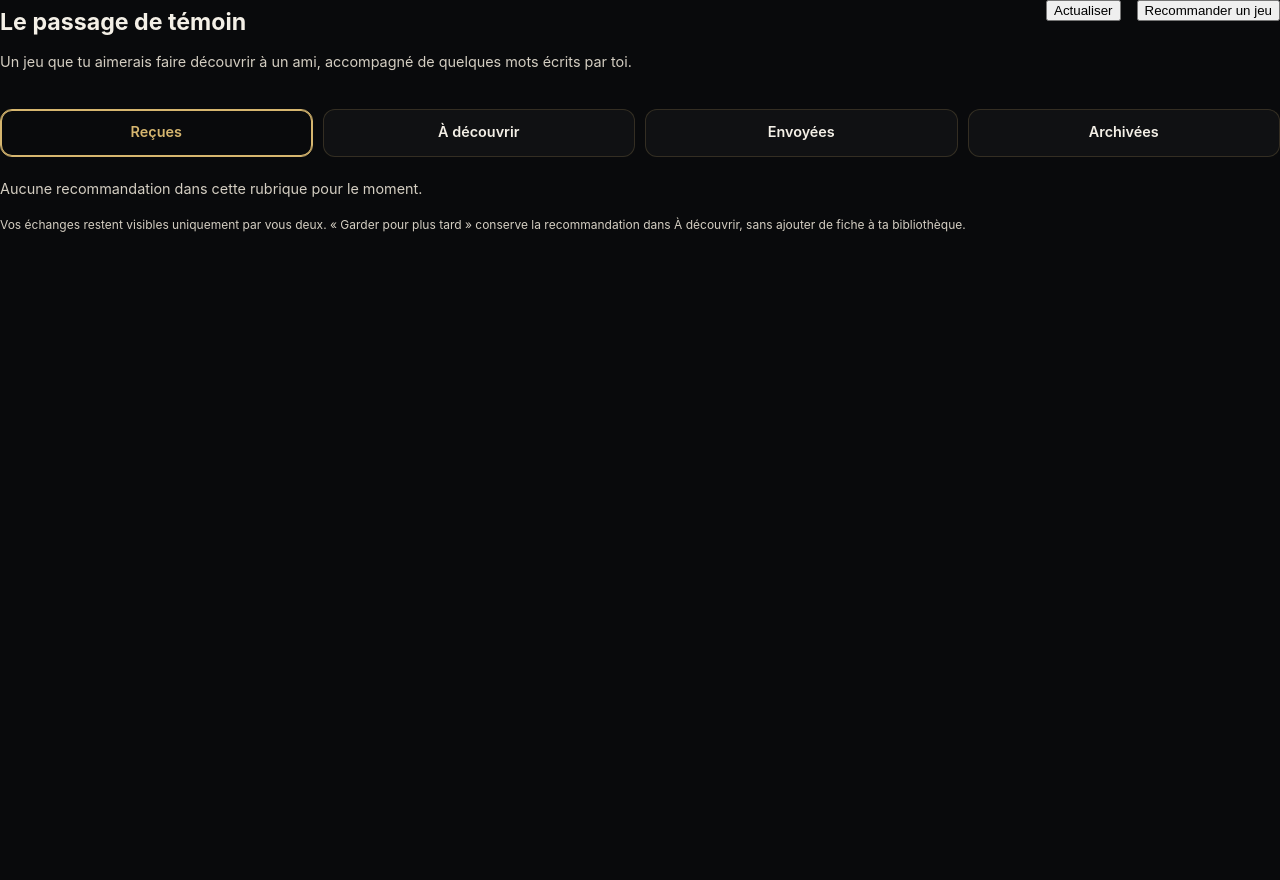
recommendations require a real message and game; retries preserve the draft
Click the button "Recommander un jeu" at (1208, 10), box top-left (1137, 0), bottom-right (1279, 21)
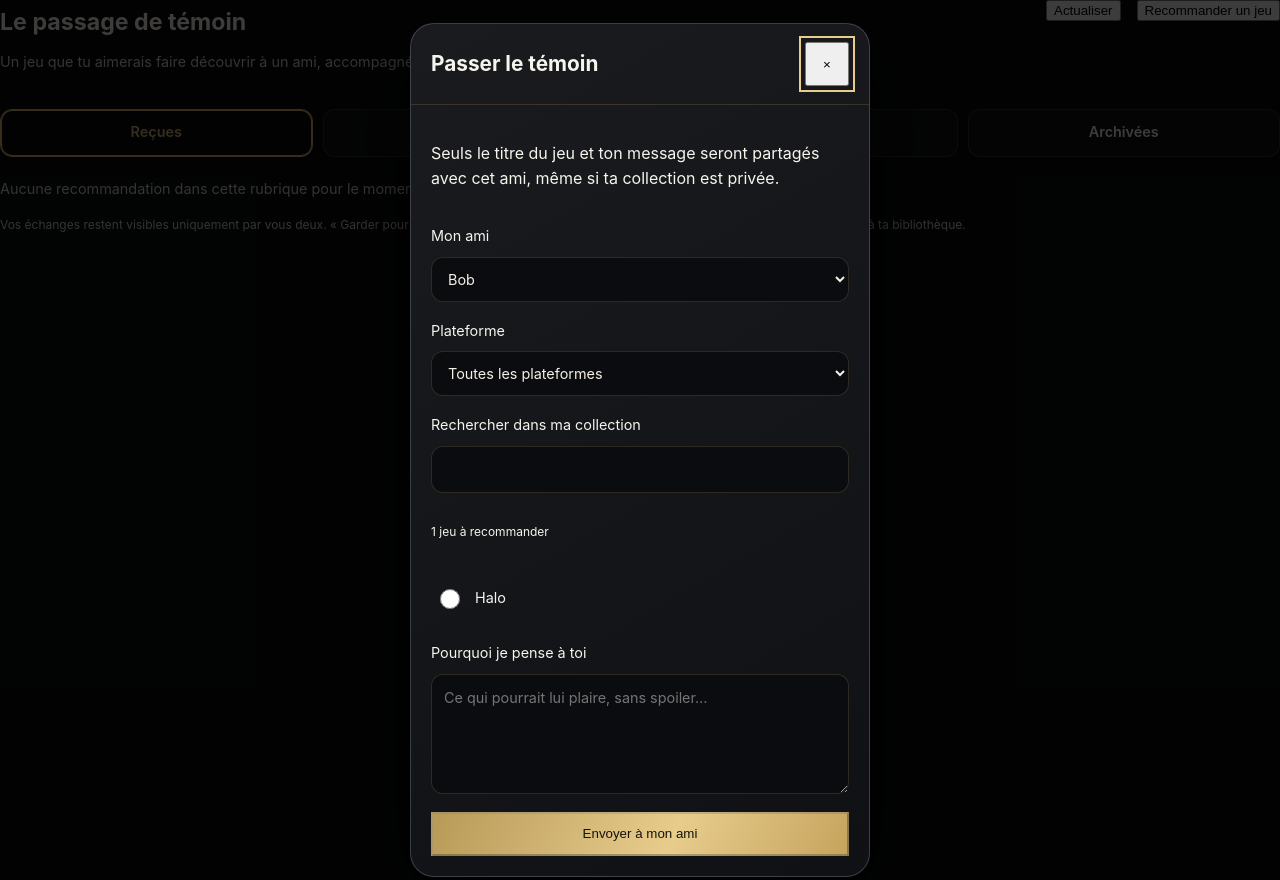
Expected: the button "Envoyer à mon ami" is disabled, top-left (431, 812), bottom-right (849, 856)
Click the radio button labelled "Halo" at (450, 600), box top-left (440, 590), bottom-right (460, 610)
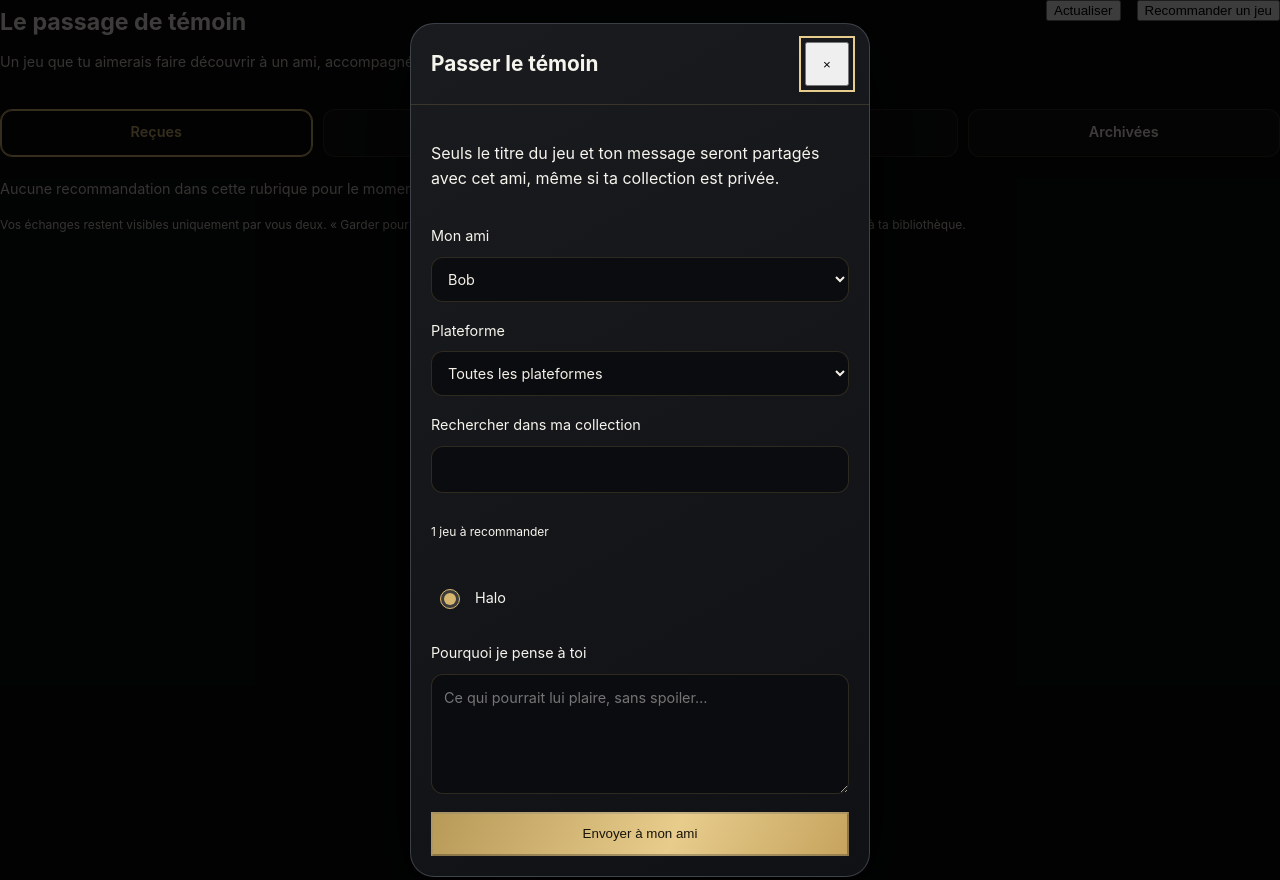
Type "Tu aimerais cet univers." into the text box labelled "Pourquoi je pense à toi" at (640, 734), box top-left (431, 674), bottom-right (849, 794)
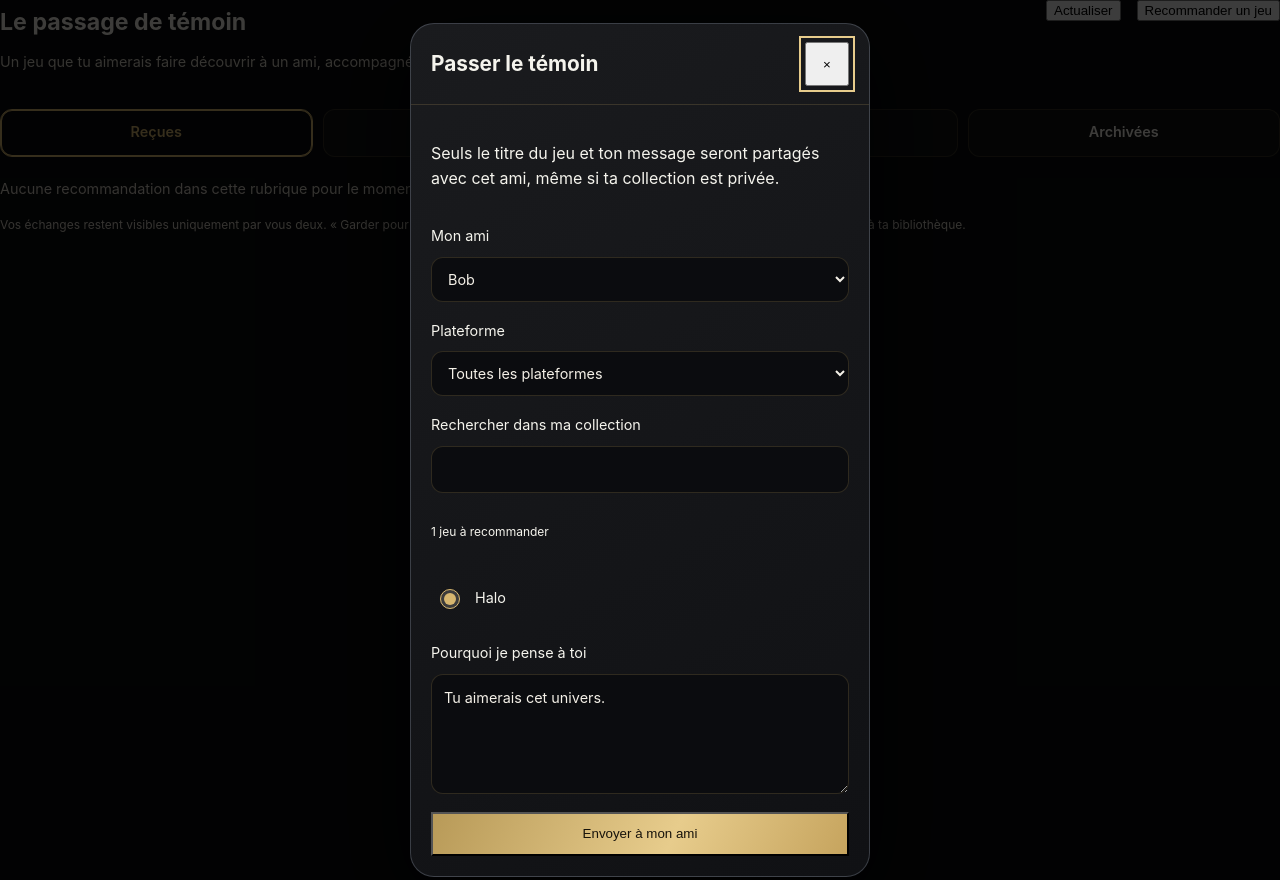
Click the button "Envoyer à mon ami" at (640, 834), box top-left (431, 812), bottom-right (849, 856)
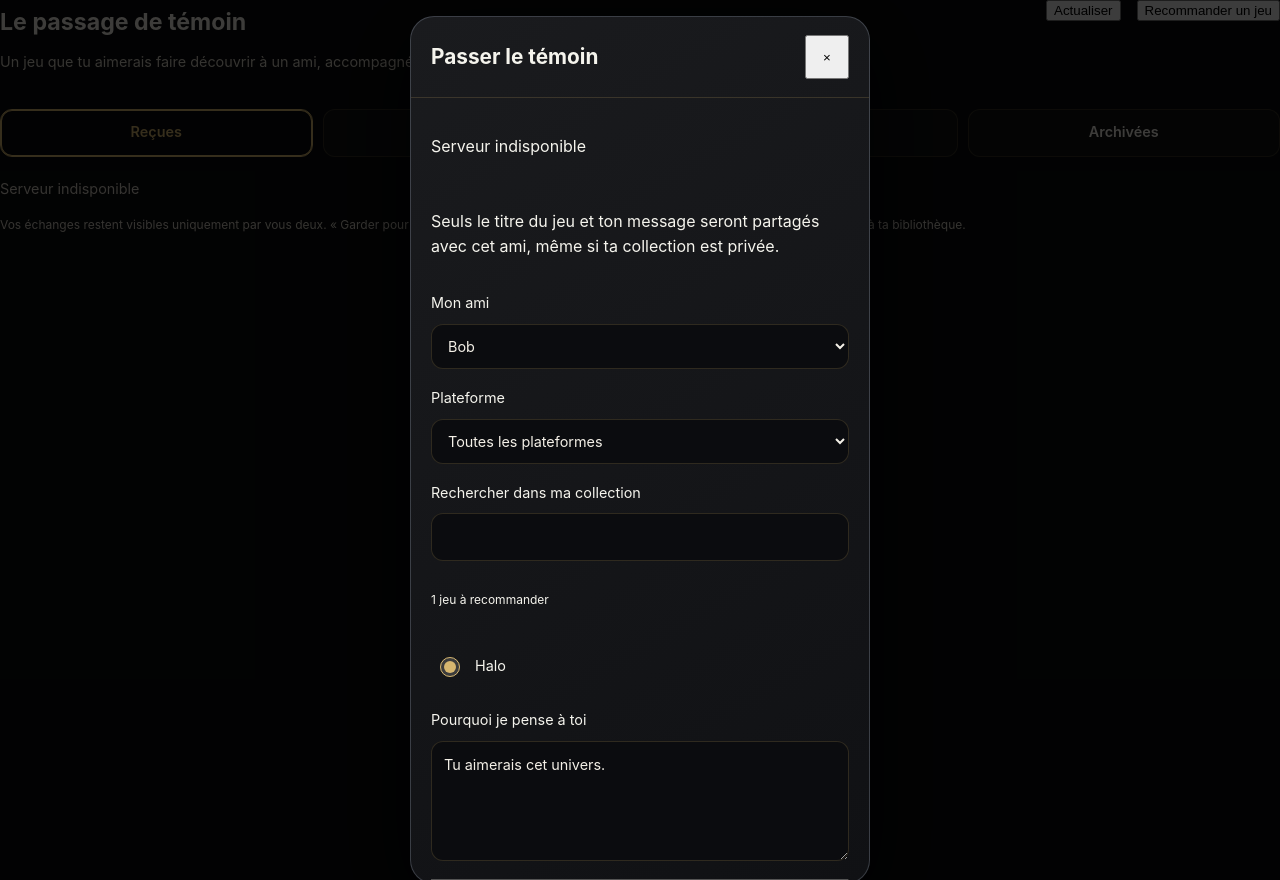
Expected: the message "Serveur indisponible" is shown, top-left (431, 136), bottom-right (586, 156)
